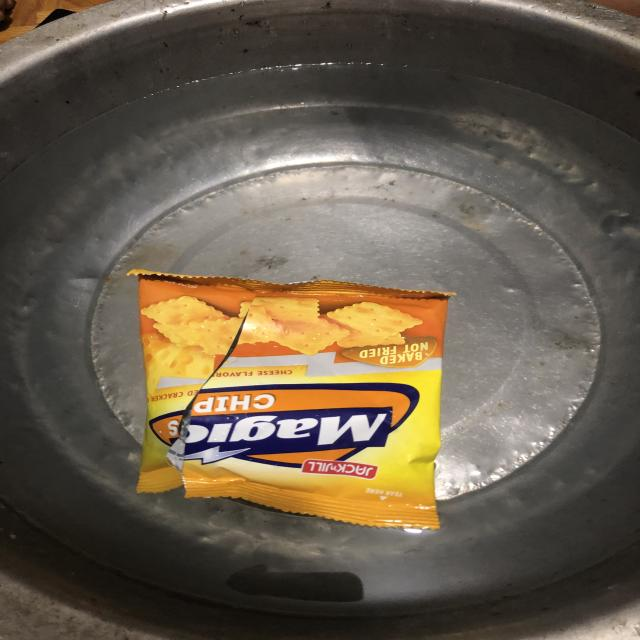Plastic Wrapper: (128, 270, 451, 530), (316, 383, 324, 387)
